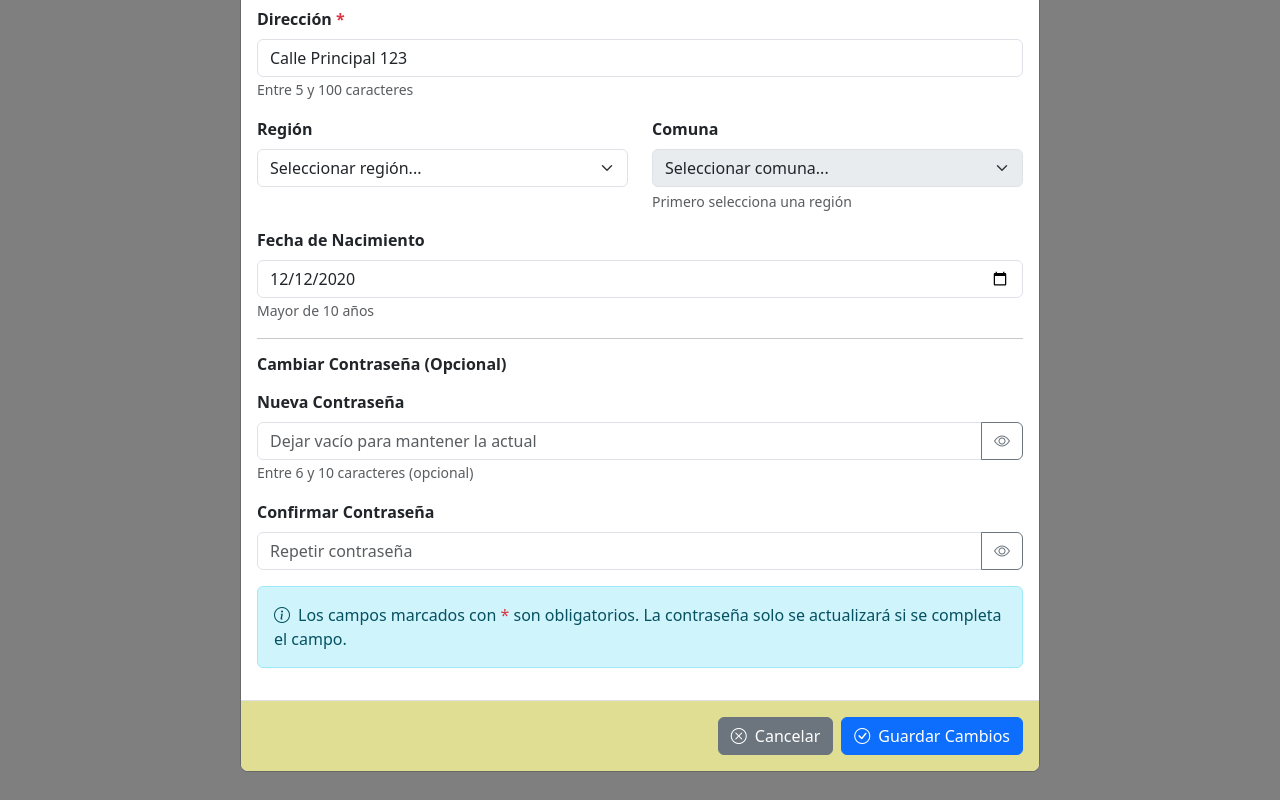
Scenario: PerfilModal › debería validar edad mínima
(page scrolled)
Click the button "Guardar Cambios": {"x": 932, "y": 736} x1=841 y1=717 x2=1023 y2=755
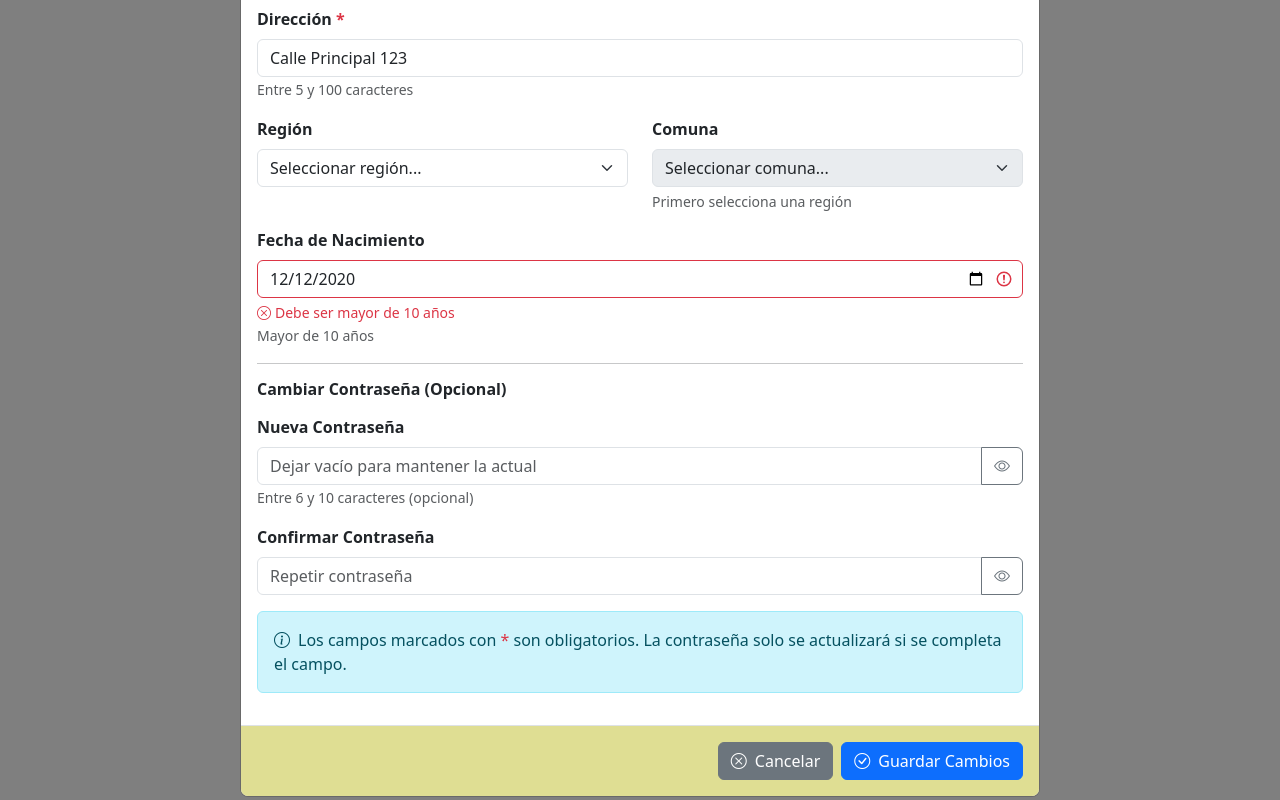
Check: the text "Debe ser mayor de 10 años" is shown, box x1=257 y1=303 x2=455 y2=322
